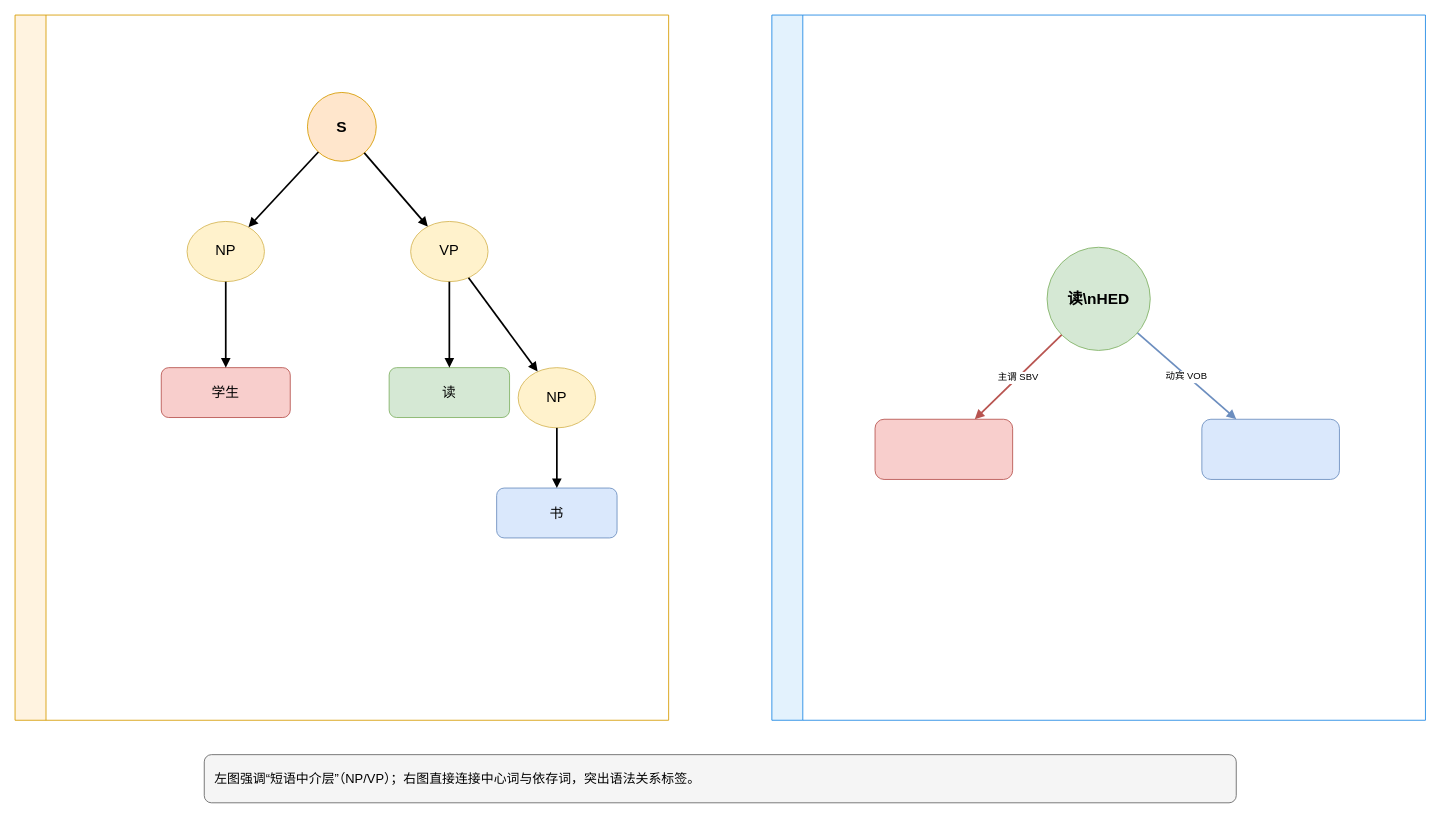
Image size: 1441x818. Some labels were removed from this diagram. The box of each missing label's shape, as (x1, y1, x2, y2) in pixels:
书\nVOB: (1201, 418, 1339, 479)
依存结构（词语关系）: (771, 14, 1425, 720)
学生\nSBV: (874, 418, 1013, 479)
成分结构（短语层级）: (14, 14, 669, 720)
